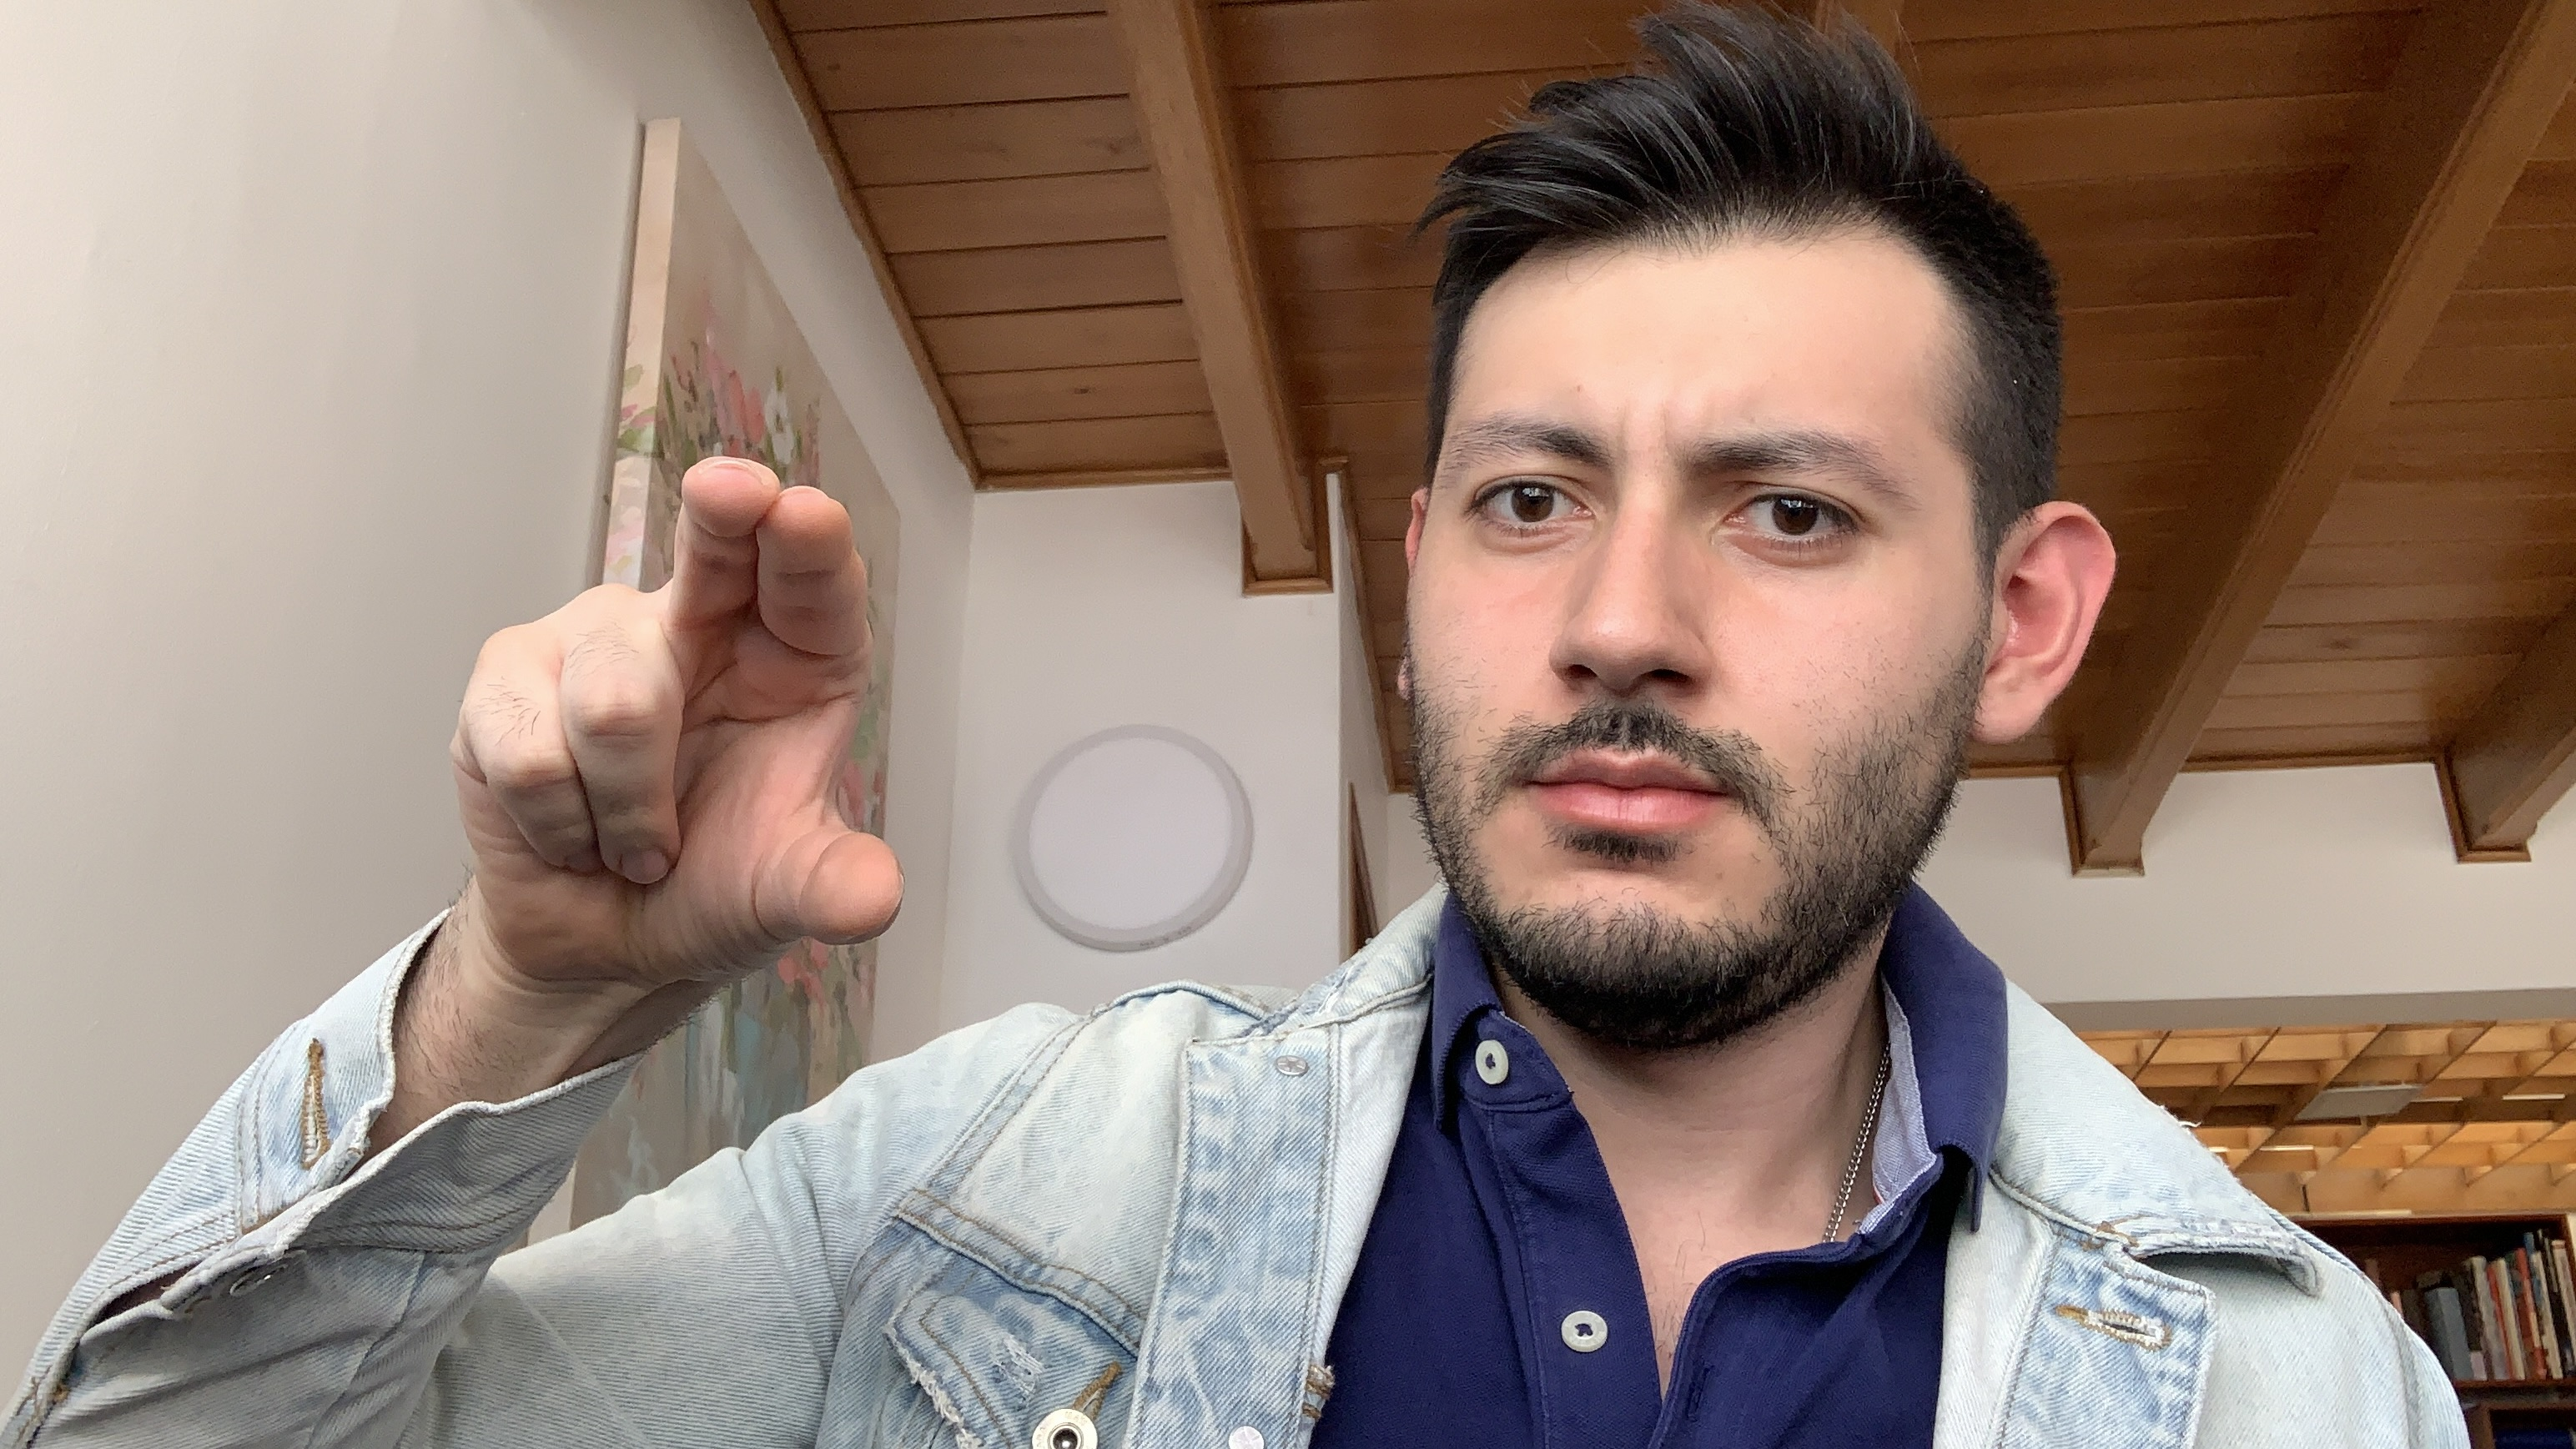No: (428, 433, 916, 1039)
